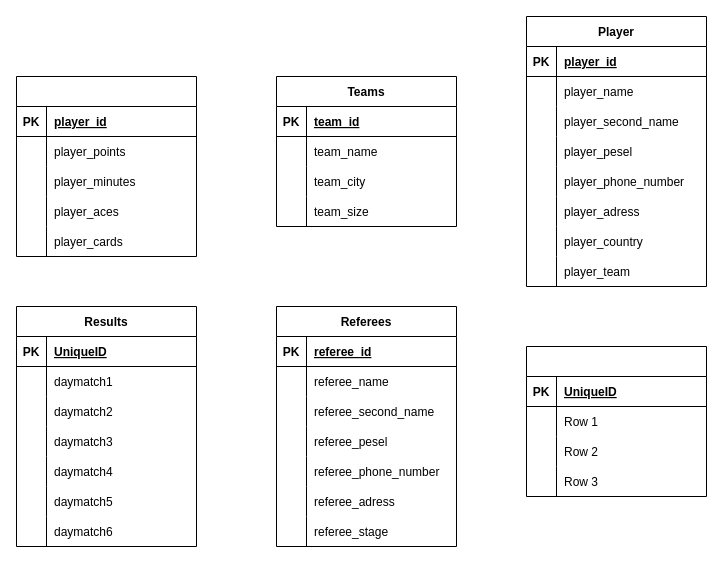
Some shapes in this 723 by 563 pixel diagram are drawn without their labels. Each missing label, with the box of its shape:
Player_Details: (16, 76, 196, 256)
Table: (526, 346, 706, 496)
